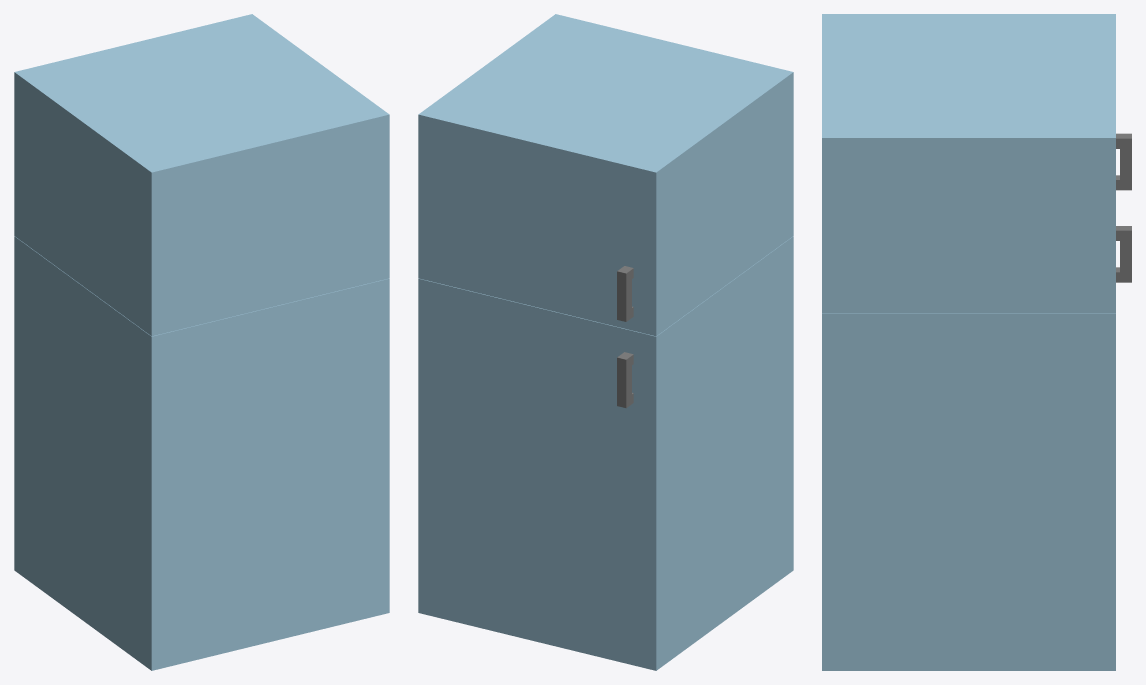
The model's file is Fridge.fbx.
3 renders of one model, left to right at view 1: azimuth 30°, elevation 25°; view 2: azimuth 150°, elevation 25°; view 3: azimuth 270°, elevation 25°, orthographic. The views are drawn at different scales.
Parts seen in each view (by area): view 1: Cube; view 2: Cube, Cube.002, Cube.001; view 3: Cube, Cube.001, Cube.002.
Part boxes in pixels (left/top/right/bottom): Cube: left=14, top=14, right=389, bottom=670; Cube: left=418, top=14, right=793, bottom=670; Cube.002: left=617, top=352, right=633, bottom=408; Cube.001: left=617, top=266, right=633, bottom=321; Cube: left=822, top=14, right=1115, bottom=670; Cube.001: left=1116, top=133, right=1131, bottom=190; Cube.002: left=1116, top=226, right=1131, bottom=282.
Size of the model in its own units: 200 by 400 by 211.
